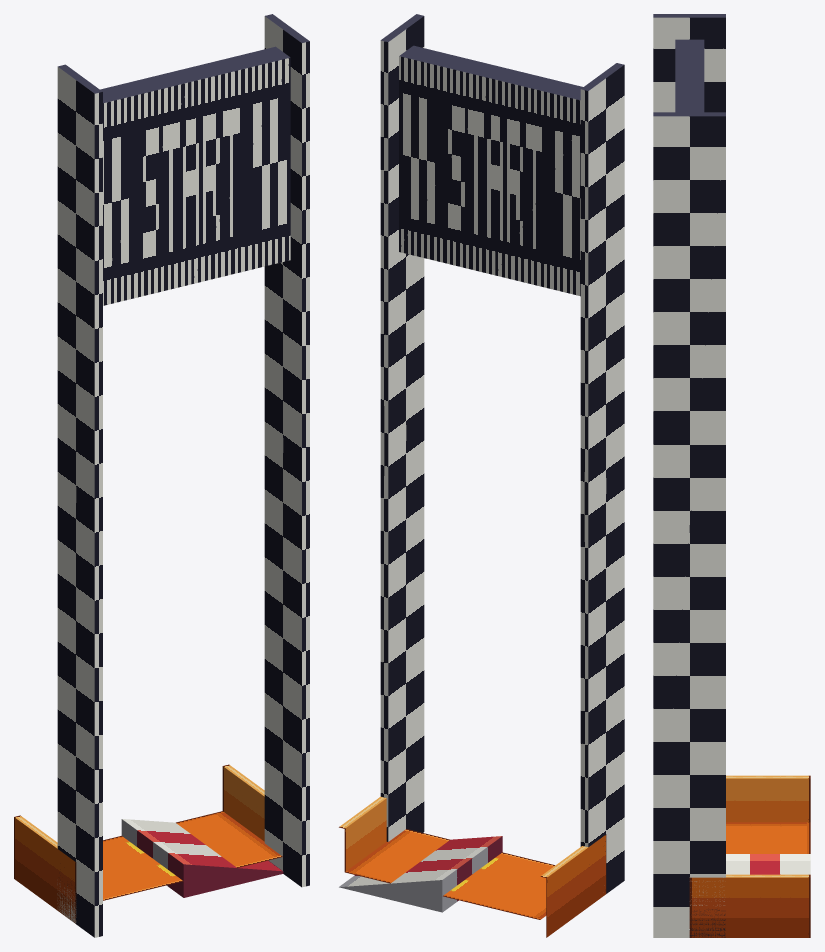
The model's file is track_kit.glb.
3 views of the same model, side by side, from view 1: azimuth 30°, elevation 25°; view 2: azimuth 150°, elevation 25°; view 3: azimuth 270°, elevation 25° (orthographic). The views are drawn at different scales.
Parts seen in each view (by area): view 1: Gantry, PieceStraight, Kerb; view 2: Gantry, PieceStraight, Kerb; view 3: Gantry, PieceStraight, Kerb.
Part boxes in pixels (bbox=[...]): Gantry: bbox=[57, 14, 309, 937]; PieceStraight: bbox=[14, 764, 282, 923]; Kerb: bbox=[121, 819, 283, 897]; Gantry: bbox=[380, 14, 624, 893]; PieceStraight: bbox=[339, 796, 606, 937]; Kerb: bbox=[339, 836, 502, 912]; Gantry: bbox=[653, 14, 725, 937]; PieceStraight: bbox=[689, 775, 810, 937]; Kerb: bbox=[726, 854, 810, 874].
Size of the model in its own units: 2 by 7.5 by 1.3.
3 materials, 3 textured.
